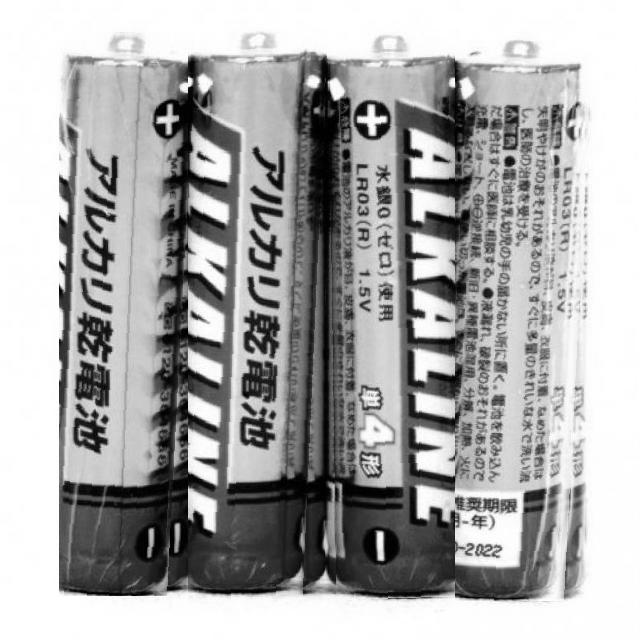battery: (188, 29, 328, 603), (456, 39, 594, 602), (59, 30, 196, 596), (328, 26, 461, 600)
